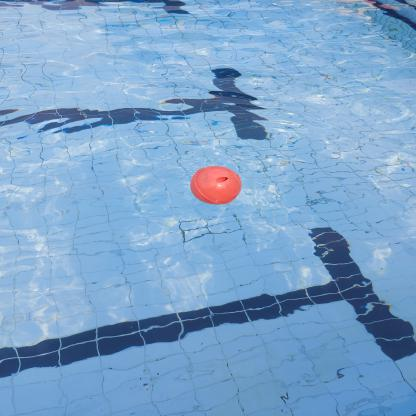red_buoy: (186, 162, 244, 208)
